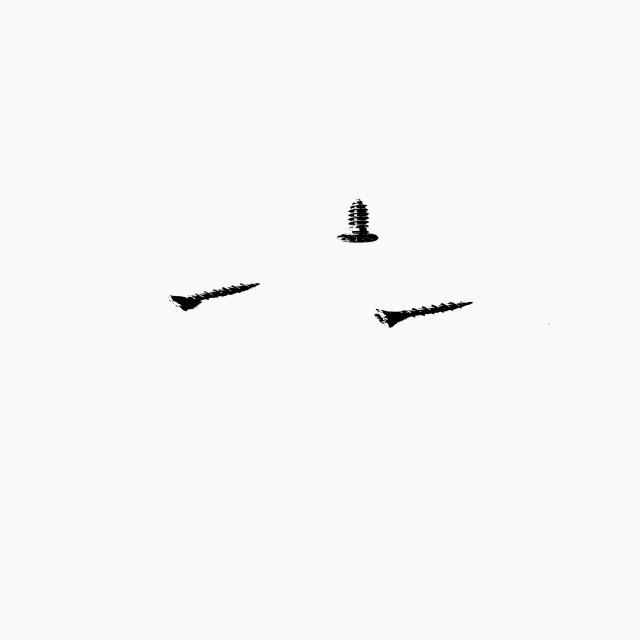Screw: (373, 302, 471, 328), (168, 283, 258, 311), (336, 198, 378, 243)
